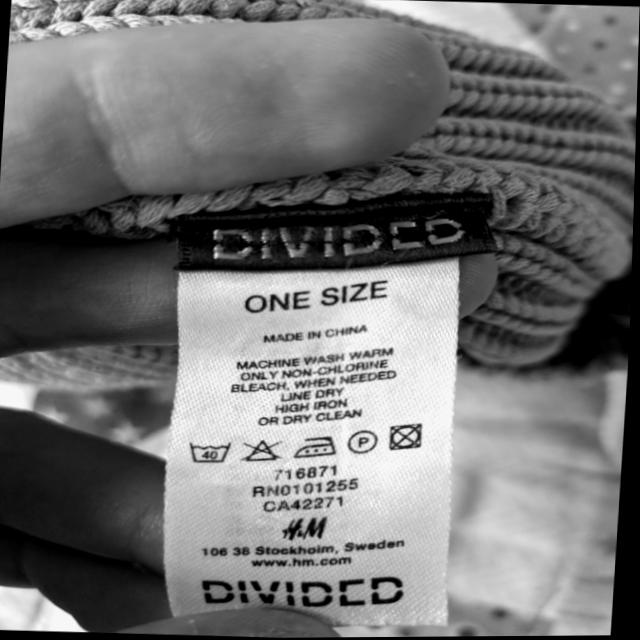40C: (188, 433, 234, 467)
DN_bleach: (243, 434, 284, 465)
DN_tumble_dry: (386, 417, 425, 452)
dry_clean_any_solvent_except_trichloroethylene: (347, 427, 378, 455)
iron_high: (296, 433, 338, 459)
